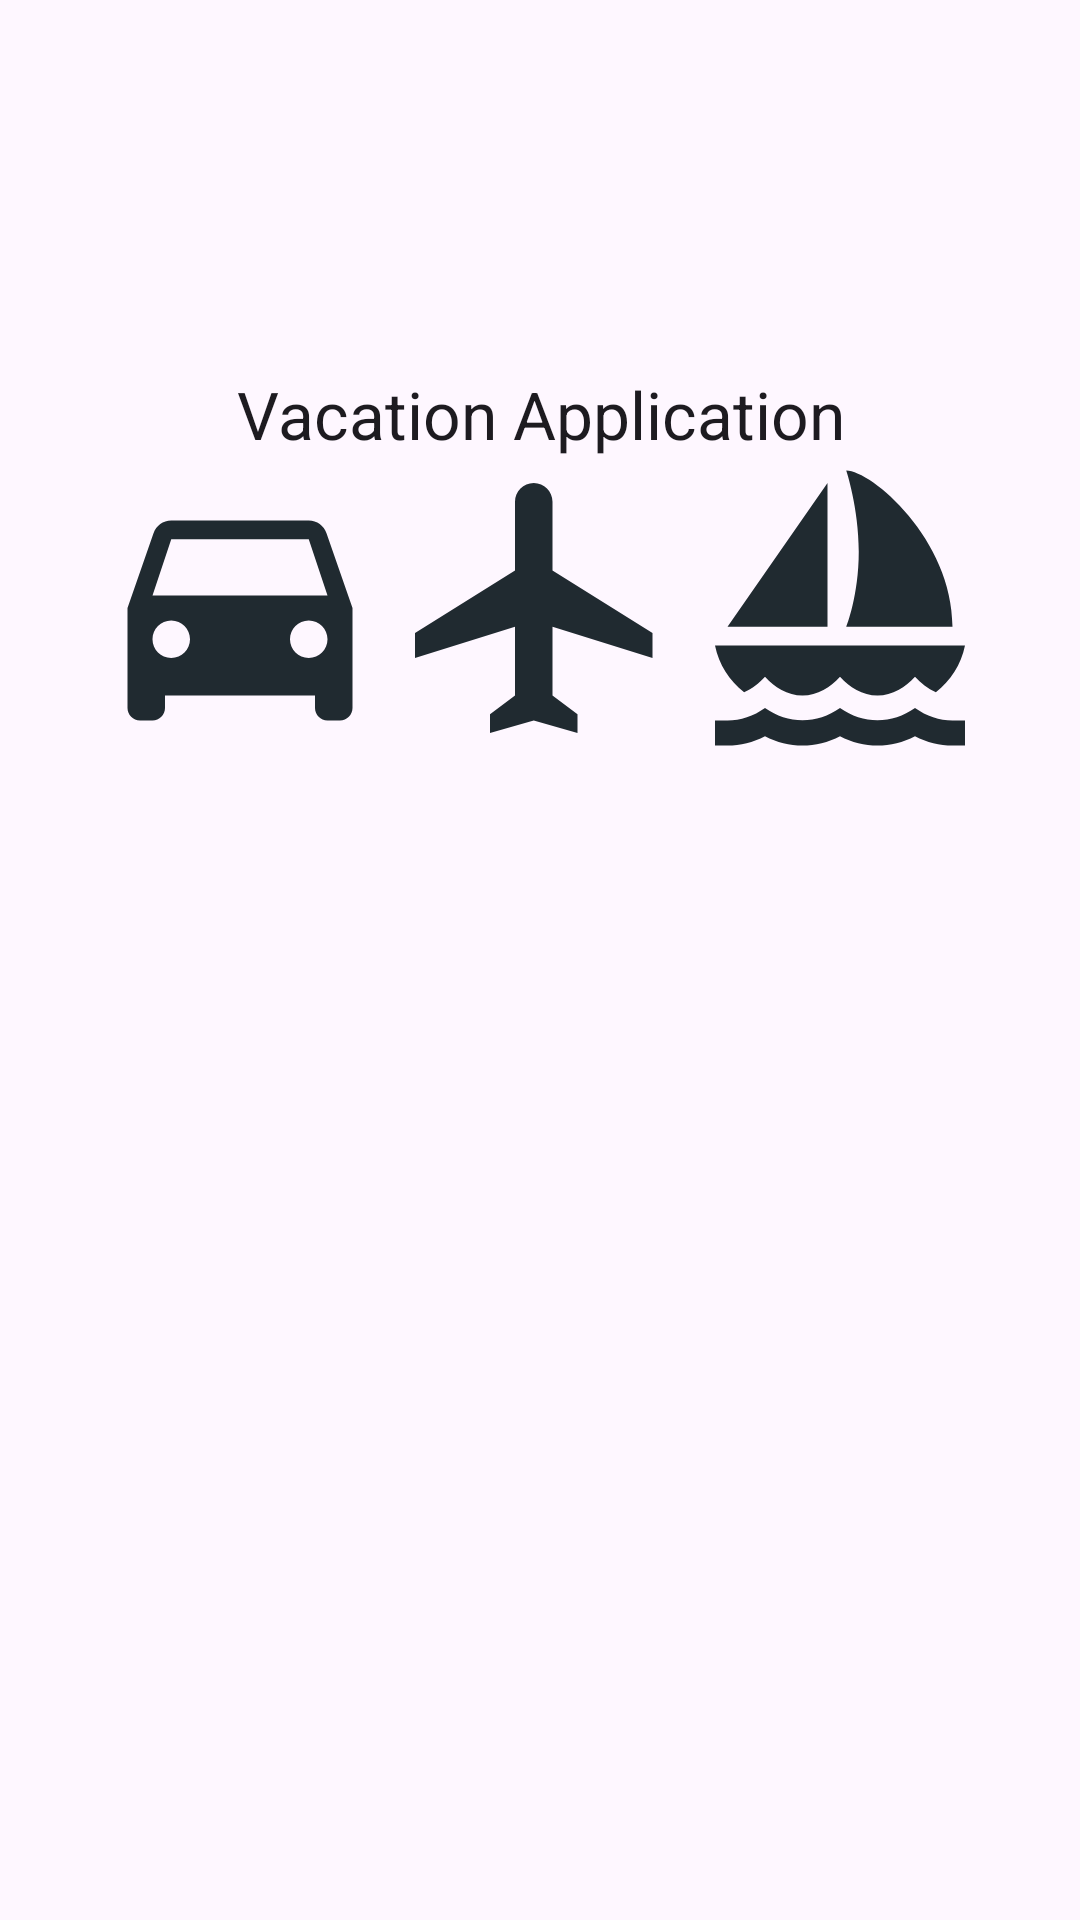

Where icons sit on this 1080 x 1920 app screen, as [x1=x1, y1=y1, x2=x2, y2=y2]:
directions car: [x1=127, y1=520, x2=353, y2=721]
flight: [x1=415, y1=483, x2=653, y2=733]
sailing: [x1=715, y1=470, x2=965, y2=746]
